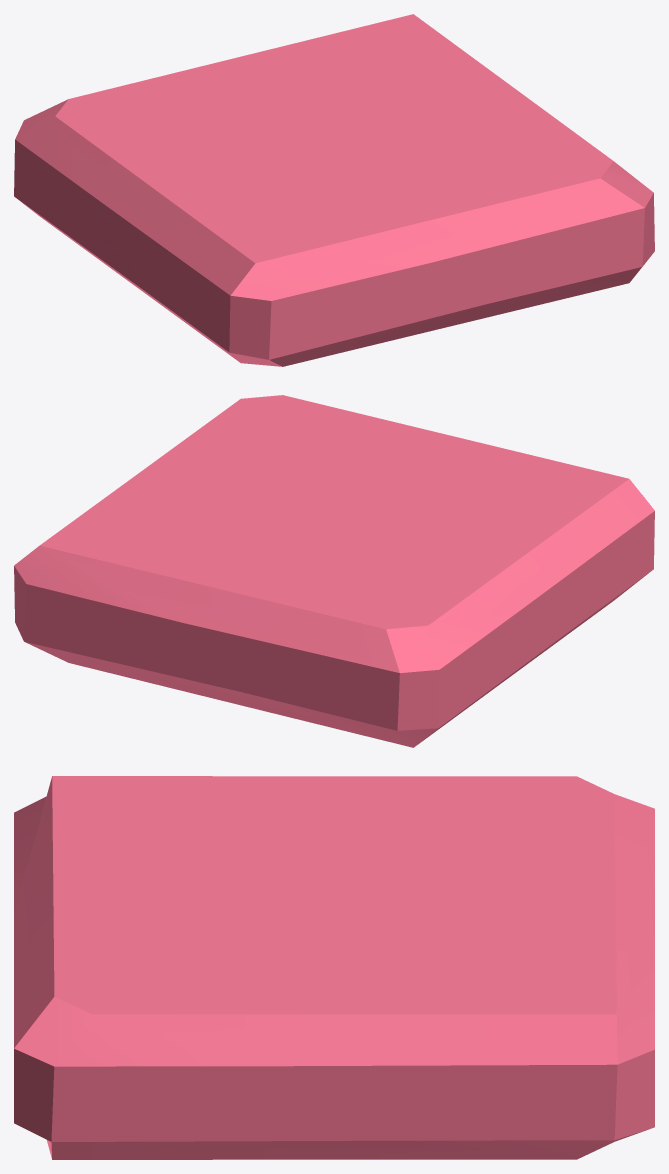
The model's file is shortrange.obj.
The picture shows the model from 3 angles, top to bottom: view 1: azimuth 30°, elevation 25°; view 2: azimuth 150°, elevation 25°; view 3: azimuth 270°, elevation 25°; orthographic projection. The views are drawn at different scales.
Parts seen in each view (by area): view 1: shortdistance:pCube1; view 2: shortdistance:pCube1; view 3: shortdistance:pCube1.
Part boxes in pixels (box(x1,y1,x2,y2)): shortdistance:pCube1: box(14, 14, 654, 366); shortdistance:pCube1: box(14, 395, 654, 747); shortdistance:pCube1: box(14, 776, 654, 1159).
Bounding box in the file's own units: 2 × 0.5 × 2.
1 material, 1 textured.
